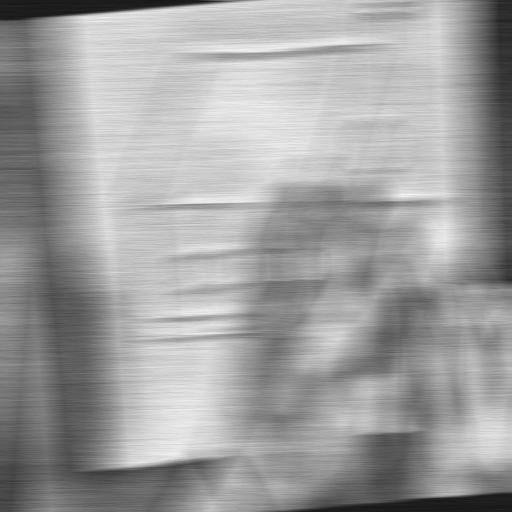bottom_left: (466, 406, 491, 423)
bottom_right: (88, 460, 114, 478)
house: (97, 0, 479, 372)
